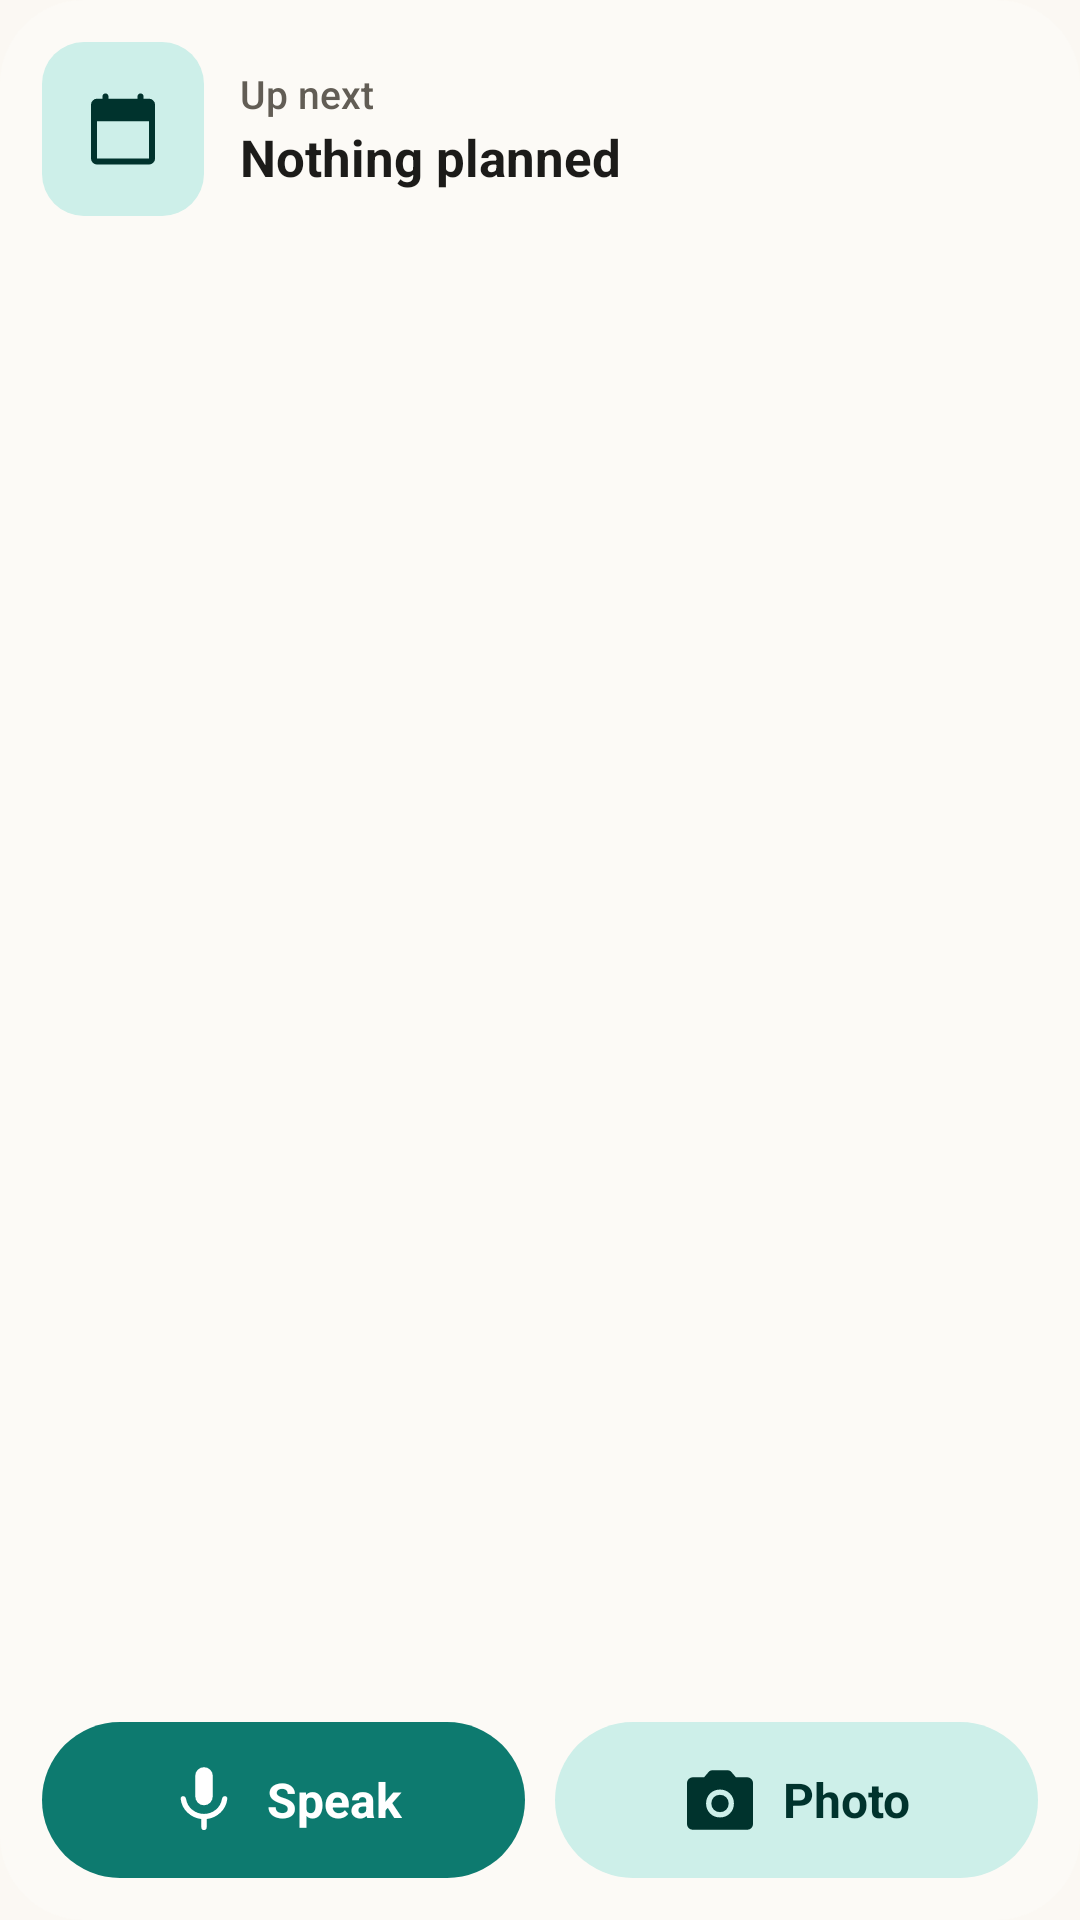

Point at icon controls on the screen. Image size 1080px×1920px, points as (x=x, y=y).
calendar: (x=123, y=129)
camera: (x=720, y=1800)
mic: (x=204, y=1798)
